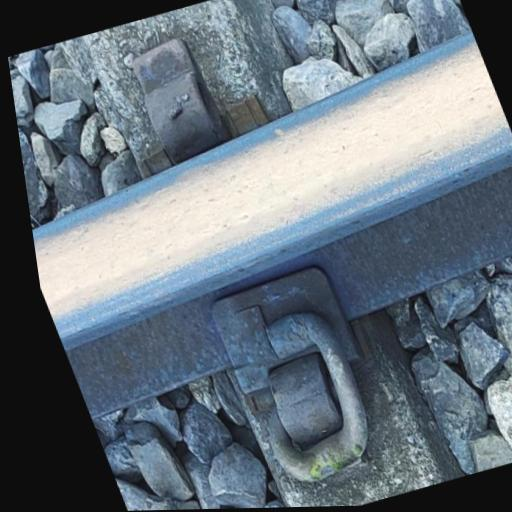erc_good: (200, 262, 405, 494)
erc_missing: (107, 7, 250, 171)
